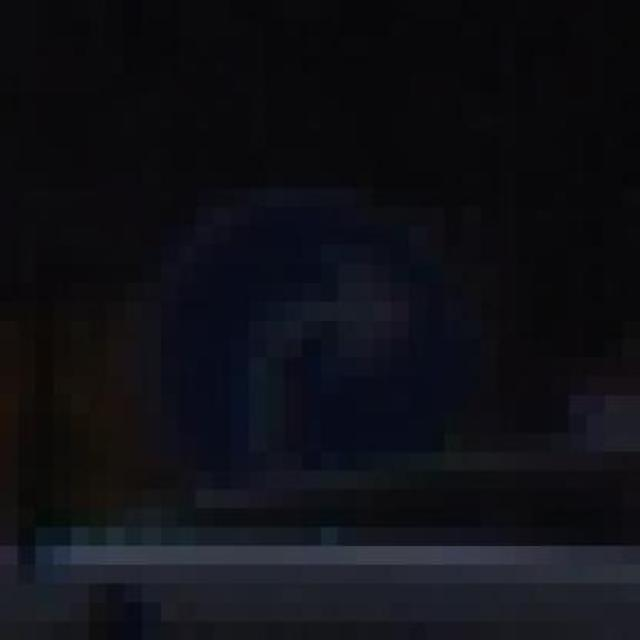Turn right ahead: (107, 169, 551, 546)
